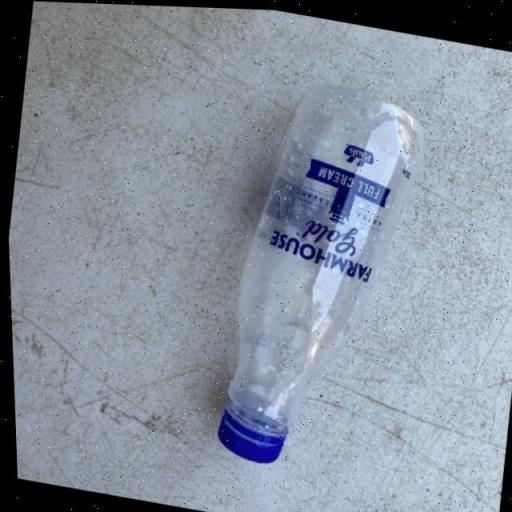plastic: (199, 66, 440, 484)
